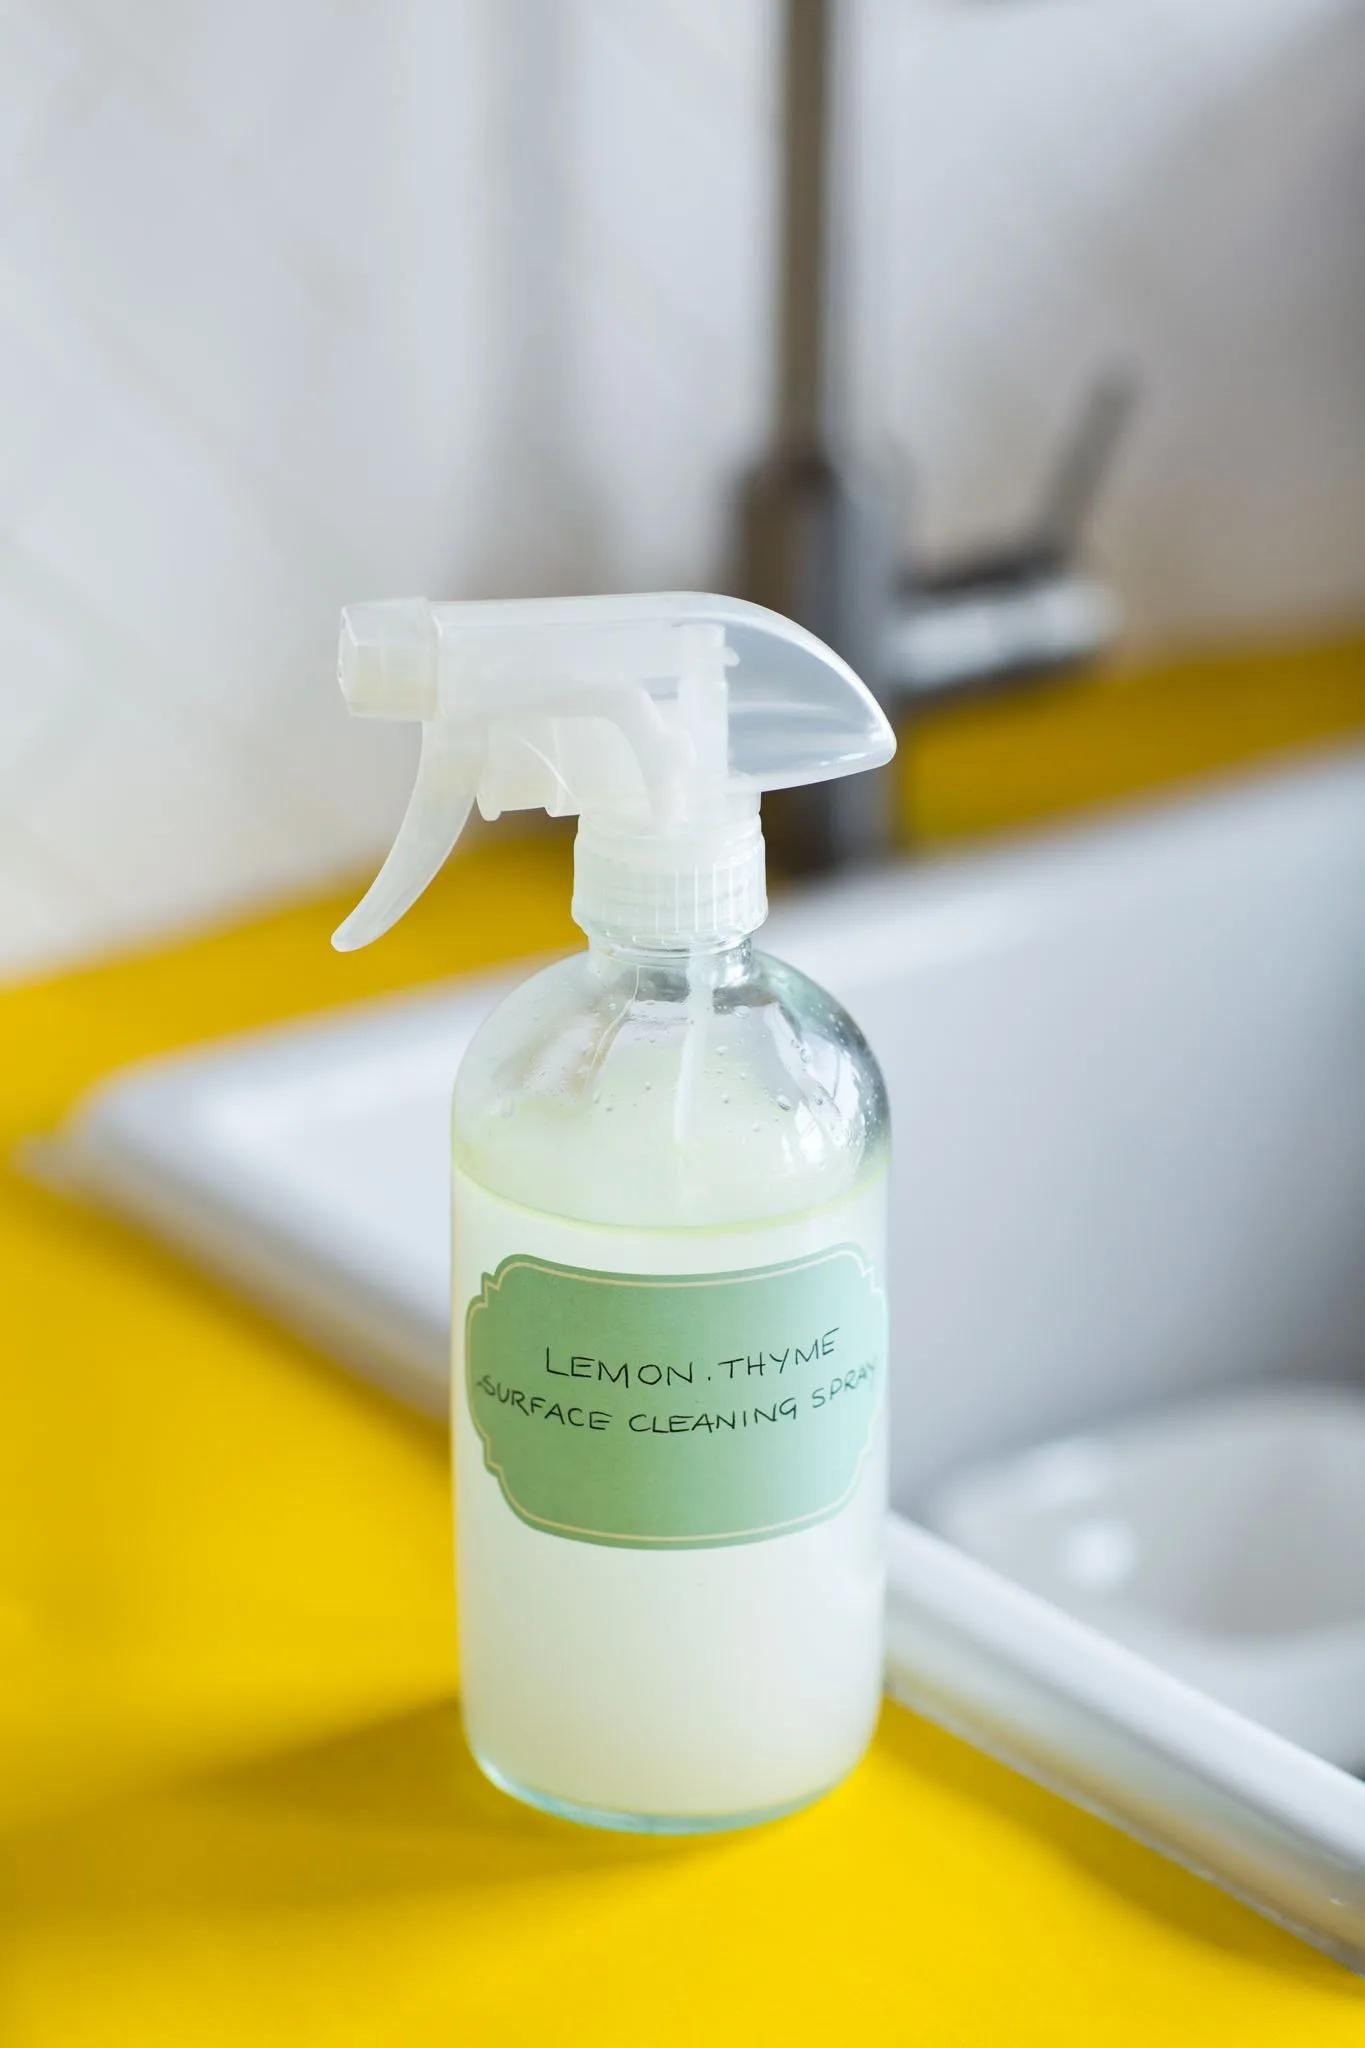plastic: (289, 574, 928, 1835)
